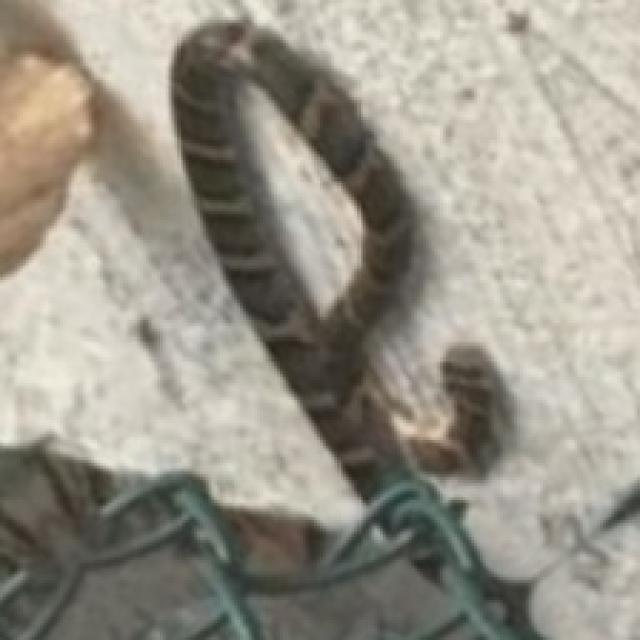king cobra: (171, 20, 531, 637), (171, 20, 511, 557)
